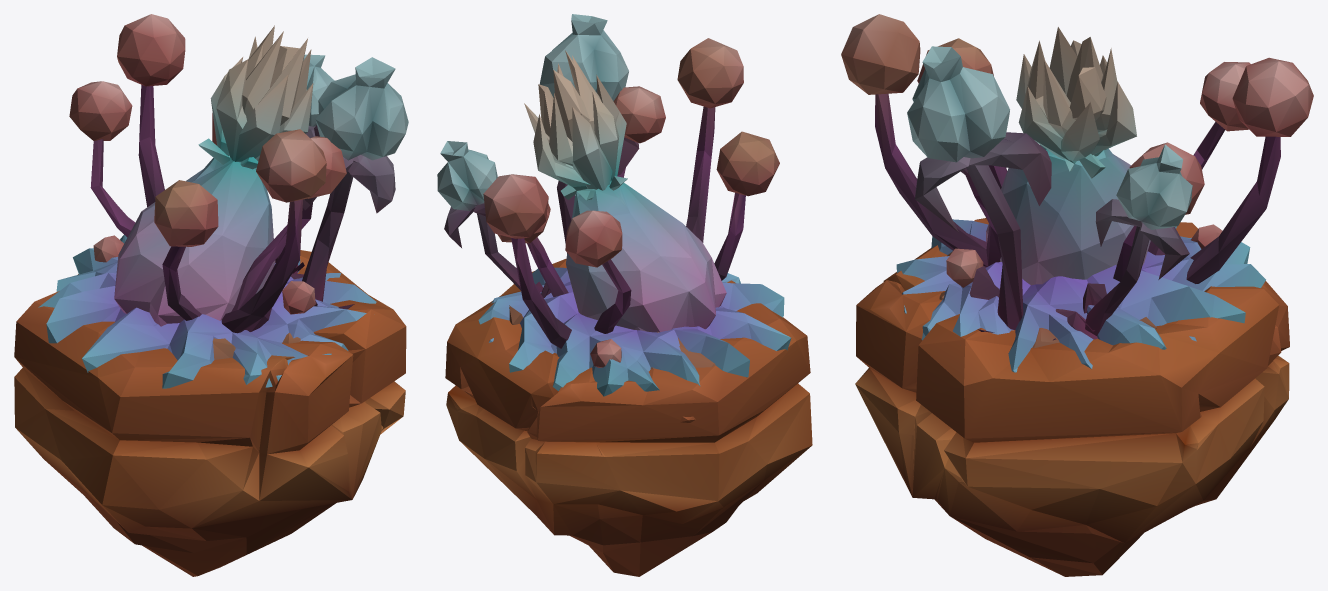
The model's file is TerraformedPlains.fbx.
The picture shows the model from 3 angles, left to right: view 1: azimuth 30°, elevation 25°; view 2: azimuth 150°, elevation 25°; view 3: azimuth 270°, elevation 25°; orthographic projection. The views are drawn at different scales.
Visible parts, largest first — view 1: Merged_Recovered_Tool2; view 2: Merged_Recovered_Tool2; view 3: Merged_Recovered_Tool2.
Part boxes in pixels (bbox=[...]): Merged_Recovered_Tool2: bbox=[14, 14, 408, 576]; Merged_Recovered_Tool2: bbox=[437, 14, 812, 576]; Merged_Recovered_Tool2: bbox=[841, 14, 1313, 576].
Bounding box in the file's own units: 1.85 × 3 × 2.16.
